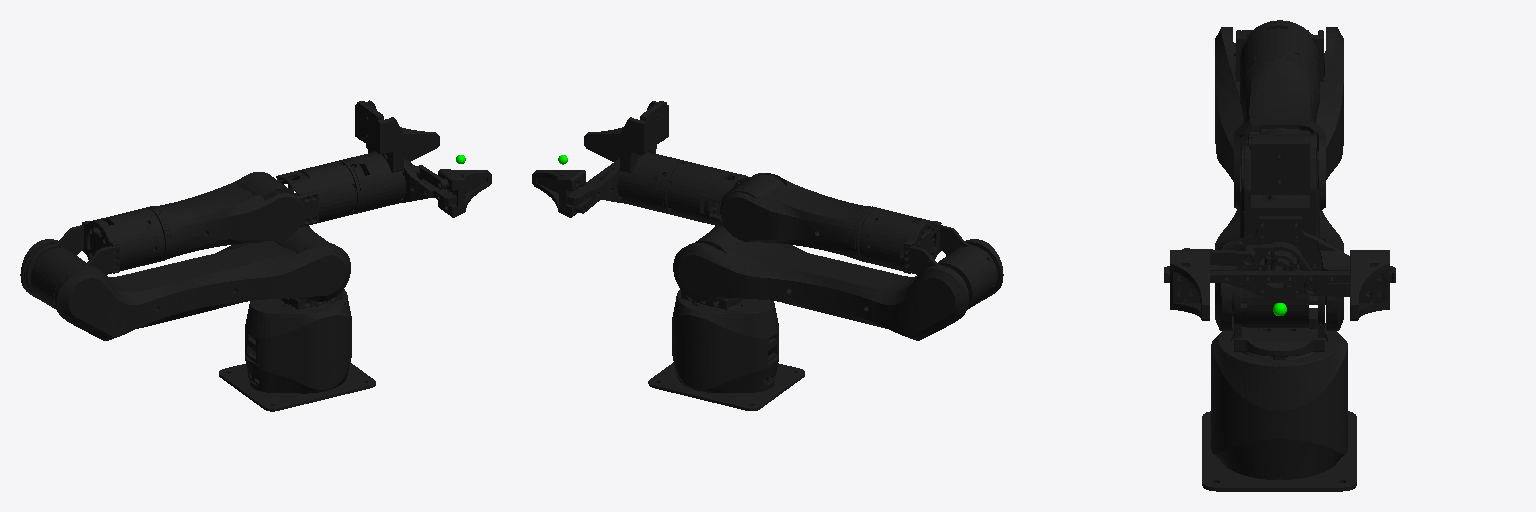
robot.urdf — alicia_m_v1_2_follower:
<?xml version="1.0" encoding="utf-8"?>
<!-- This URDF was automatically created by SolidWorks to URDF Exporter! Originally created by Stephen Brawner (brawner@gmail.com)
     Commit Version: 1.6.0-4-g7f85cfe  Build Version: 1.6.7995.38578
     For more information, please see http://wiki.ros.org/sw_urdf_exporter -->
<robot
  name="alicia_m_v1_2_follower">
  <mujoco>
    <compiler meshdir="../../meshes/Alicia_M_v1_2/follower" discardvisual="false" />
  </mujoco>
  <link
    name="base_link">
    <inertial>
      <origin
        xyz="-0.0103334311485526 -0.00398385453945082 0.0143582891490441"
        rpy="0 0 0" />
      <mass
        value="1.2877" />
      <inertia
        ixx="0.00234861116473635"
        ixy="-9.65297457777555E-08"
        ixz="4.24432699737844E-05"
        iyy="0.00240394161469715"
        iyz="4.00703606824947E-08"
        izz="0.00318615555166408" />
    </inertial>
    <visual>
      <origin
        xyz="0 0 0"
        rpy="0 0 0" />
      <geometry>
        <mesh
          filename="package://alicia_m_descriptions/meshes/Alicia_M_v1_2/follower/base_link.STL" />
      </geometry>
      <material
        name="">
        <color
          rgba="0.15 0.15 0.15 1" />
      </material>
    </visual>
    <collision>
      <origin
        xyz="0 0 0"
        rpy="0 0 0" />
      <geometry>
        <mesh
          filename="package://alicia_m_descriptions/meshes/Alicia_M_v1_2/follower/base_link.STL" />
      </geometry>
    </collision>
  </link>
  <link
    name="link1">
    <inertial>
      <origin
        xyz="-0.00128221166671431 -0.000784868444913489 0.0320390880049268"
        rpy="0 0 0" />
      <mass
        value="0.5406" />
      <inertia
        ixx="0.000106554926497957"
        ixy="-2.30140022681205E-07"
        ixz="-7.39121862553689E-08"
        iyy="8.50049672355468E-05"
        iyz="1.78364303375665E-07"
        izz="9.72433156881315E-05" />
    </inertial>
    <visual>
      <origin
        xyz="0 0 0"
        rpy="0 0 0" />
      <geometry>
        <mesh
          filename="package://alicia_m_descriptions/meshes/Alicia_M_v1_2/follower/Link1.STL" />
      </geometry>
      <material
        name="">
        <color
          rgba="0.15 0.15 0.15 1" />
      </material>
    </visual>
    <collision>
      <origin
        xyz="0 0 0"
        rpy="0 0 0" />
      <geometry>
        <mesh
          filename="package://alicia_m_descriptions/meshes/Alicia_M_v1_2/follower/Link1.STL" />
      </geometry>
    </collision>
  </link>
  <joint
    name="joint1"
    type="revolute">
    <origin
      xyz="0 -0.0039812 0.09125"
      rpy="0 0 1.5708" />
    <parent
      link="base_link" />
    <child
      link="link1" />
    <axis
      xyz="0 0 1" />
    <limit
      lower="-2.7475"
      upper="2.7475"
      effort="5"
      velocity="10" />
  </joint>
  <link
    name="link2">
    <inertial>
      <origin
        xyz="-0.149110206131976 0.00587855056496403 0.00511128026103987"
        rpy="0 0 0" />
      <mass
        value="0.7456" />
      <inertia
        ixx="0.000390594992994462"
        ixy="-0.000174513517791999"
        ixz="-1.08397040021435E-06"
        iyy="0.00252153883989753"
        iyz="2.76601011372572E-07"
        izz="0.00247149215867246" />
    </inertial>
    <visual>
      <origin
        xyz="0 0 0"
        rpy="0 0 0" />
      <geometry>
        <mesh
          filename="package://alicia_m_descriptions/meshes/Alicia_M_v1_2/follower/Link2.STL" />
      </geometry>
      <material
        name="">
        <color
          rgba="0.15 0.15 0.15 1" />
      </material>
    </visual>
    <collision>
      <origin
        xyz="0 0 0"
        rpy="0 0 0" />
      <geometry>
        <mesh
          filename="package://alicia_m_descriptions/meshes/Alicia_M_v1_2/follower/Link2.STL" />
      </geometry>
    </collision>
  </link>
  <joint
    name="joint2"
    type="revolute">
    <origin
      xyz="0.0039812 0 0.0425"
      rpy="1.5708 0 -1.5708" />
    <parent
      link="link1" />
    <child
      link="link2" />
    <axis
      xyz="0 0 1" />
    <limit
      lower="-3.14"
      upper="0"
      effort="5"
      velocity="10" />
  </joint>
  <link
    name="link3">
    <inertial>
      <origin
        xyz="0.0471352717326471 0.0202037498946963 0.00423214628577229"
        rpy="0 0 0" />
      <mass
        value="0.4848" />
      <inertia
        ixx="0.0002147828565748"
        ixy="9.61503533058426E-06"
        ixz="-7.38783597929946E-08"
        iyy="0.000170815770161173"
        iyz="-5.15998814935893E-08"
        izz="0.000191605361638939" />
    </inertial>
    <visual>
      <origin
        xyz="0 0 0"
        rpy="0 0 0" />
      <geometry>
        <mesh
          filename="package://alicia_m_descriptions/meshes/Alicia_M_v1_2/follower/Link3.STL" />
      </geometry>
      <material
        name="">
        <color
          rgba="0.15 0.15 0.15 1" />
      </material>
    </visual>
    <collision>
      <origin
        xyz="0 0 0"
        rpy="0 0 0" />
      <geometry>
        <mesh
          filename="package://alicia_m_descriptions/meshes/Alicia_M_v1_2/follower/Link3.STL" />
      </geometry>
    </collision>
  </link>
  <joint
    name="joint3"
    type="revolute">
    <origin
      xyz="-0.28184 0.040424 0"
      rpy="0 0 0" />
    <parent
      link="link2" />
    <child
      link="link3" />
    <axis
      xyz="0 0 -1" />
    <limit
      lower="-3.14"
      upper="0"
      effort="5"
      velocity="10" />
  </joint>
  <link
    name="link4">
    <inertial>
      <origin
        xyz="-5.27169367604829E-05 0.000828604472237988 0.101643736358595"
        rpy="0 0 0" />
      <mass
        value="0.5496" />
      <inertia
        ixx="0.00028255308883228"
        ixy="-1.33853178351593E-07"
        ixz="2.70285319075968E-07"
        iyy="0.000326578235252475"
        iyz="4.29699957506392E-07"
        izz="0.000156850634511828" />
    </inertial>
    <visual>
      <origin
        xyz="0 0 0"
        rpy="0 0 0" />
      <geometry>
        <mesh
          filename="package://alicia_m_descriptions/meshes/Alicia_M_v1_2/follower/Link4.STL" />
      </geometry>
      <material
        name="">
        <color
          rgba="0.15 0.15 0.15 1" />
      </material>
    </visual>
    <collision>
      <origin
        xyz="0 0 0"
        rpy="0 0 0" />
      <geometry>
        <mesh
          filename="package://alicia_m_descriptions/meshes/Alicia_M_v1_2/follower/Link4.STL" />
      </geometry>
    </collision>
  </link>
  <joint
    name="joint4"
    type="revolute">
    <origin
      xyz="0.10092 0.028546 0.0036562"
      rpy="-1.5708 0 -1.5708" />
    <parent
      link="link3" />
    <child
      link="link4" />
    <axis
      xyz="0 0 1" />
    <limit
      lower="-2.79"
      upper="2.79"
      effort="5"
      velocity="10" />
  </joint>
  <link
    name="link5">
    <inertial>
      <origin
        xyz="-0.000158067588989119 0.0618237517311098 0.00493170386673768"
        rpy="0 0 0" />
      <mass
        value="0.40889" />
      <inertia
        ixx="0.000104587906011128"
        ixy="-1.6454205645401E-07"
        ixz="-2.7063034615432E-08"
        iyy="0.000134781703440636"
        iyz="-2.57336134780647E-07"
        izz="0.000109644134958926" />
    </inertial>
    <visual>
      <origin
        xyz="0 0 0"
        rpy="0 0 0" />
      <geometry>
        <mesh
          filename="package://alicia_m_descriptions/meshes/Alicia_M_v1_2/follower/Link5.STL" />
      </geometry>
      <material
        name="">
        <color
          rgba="0.15 0.15 0.15 1" />
      </material>
    </visual>
    <collision>
      <origin
        xyz="0 0 0"
        rpy="0 0 0" />
      <geometry>
        <mesh
          filename="package://alicia_m_descriptions/meshes/Alicia_M_v1_2/follower/Link5.STL" />
      </geometry>
    </collision>
  </link>
  <joint
    name="joint5"
    type="revolute">
    <origin
      xyz="0 0.0036562 0.1365"
      rpy="1.5708 0 0" />
    <parent
      link="link4" />
    <child
      link="link5" />
    <axis
      xyz="0 0 1" />
    <limit
      lower="-1.57"
      upper="1.57"
      effort="5"
      velocity="10" />
  </joint>
  <link
    name="link6">
    <inertial>
      <origin
        xyz="-0.00948998636754905 0.000191532978881798 0.0380505833920446"
        rpy="0 0 0" />
      <mass
        value="0.4758" /> <!-- no camera: 0.376, camera: 99.8g -->
      <inertia
        ixx="0.000201456867657842"
        ixy="-3.30971599095294E-07"
        ixz="1.95742568443115E-06"
        iyy="0.000124595528900766"
        iyz="1.24978781875172E-07"
        izz="0.000253878310814564" />
    </inertial>
    <visual>
      <origin
        xyz="0 0 0"
        rpy="0 0 0" />
      <geometry>
        <mesh
          filename="package://alicia_m_descriptions/meshes/Alicia_M_v1_2/follower/Link6.STL" />
      </geometry>
      <material
        name="">
        <color
          rgba="0.15 0.15 0.15 1" />
      </material>
    </visual>
    <collision>
      <origin
        xyz="0 0 0"
        rpy="0 0 0" />
      <geometry>
        <mesh
          filename="package://alicia_m_descriptions/meshes/Alicia_M_v1_2/follower/Link6.STL" />
      </geometry>
    </collision>
  </link>
  <joint
    name="joint6"
    type="revolute">
    <origin
      xyz="0 0.091 0.0036563"
      rpy="-1.5708 0 0" />
    <parent
      link="link5" />
    <child
      link="link6" />
    <axis
      xyz="0 0 1" />
    <limit
      lower="-2.791"
      upper="2.791"
      effort="5"
      velocity="10" />
  </joint>
  <link
    name="grasp_base">
    <inertial>
      <origin
        xyz="-0.0852198249110105 -0.00365737918221872 -0.635998735149676"
        rpy="0 0 0" />
      <mass
        value="0.0425" />
      <inertia
        ixx="2.85284349691811E-06"
        ixy="4.98625802715105E-07"
        ixz="-9.10665648582534E-13"
        iyy="1.02173073972286E-06"
        iyz="-4.75683900460703E-12"
        izz="3.62557456427301E-06" />
    </inertial>
    <visual>
      <origin
        xyz="0 0 0"
        rpy="0 0 0" />
      <geometry>
        <mesh
          filename="package://alicia_m_descriptions/meshes/Alicia_M_v1_2/follower/grasp_base.STL" />
      </geometry>
      <material
        name="">
        <color
          rgba="0.15 0.15 0.15 1" />
      </material>
    </visual>
    <collision>
      <origin
        xyz="0 0 0"
        rpy="0 0 0" />
      <geometry>
        <mesh
          filename="package://alicia_m_descriptions/meshes/Alicia_M_v1_2/follower/grasp_base.STL" />
      </geometry>
    </collision>
  </link>
  <joint
    name="grasp_base_joint"
    type="fixed">
    <origin
      xyz="0.0852198249102375 0.00365621749159879 0.705182667183205"
      rpy="0 0 0" />
    <parent
      link="link6" />
    <child
      link="grasp_base" />
    <axis
      xyz="0 0 0" />
  </joint>
  <link
    name="link7">
    <inertial>
      <origin
        xyz="-0.0424955348184516 -1.6632181576437E-08 -0.010712473883987"
        rpy="0 0 0" />
      <mass
        value="0.0260" />
      <inertia
        ixx="5.1089208324363E-06"
        ixy="-2.49929022186501E-11"
        ixz="1.289587574768E-06"
        iyy="6.51611349918903E-06"
        iyz="4.24550714795007E-13"
        izz="8.13762906257037E-06" />
    </inertial>
    <visual>
      <origin
        xyz="0 0 0"
        rpy="0 0 0" />
      <geometry>
        <mesh
          filename="package://alicia_m_descriptions/meshes/Alicia_M_v1_2/follower/Link7.STL" />
      </geometry>
      <material
        name="">
        <color
          rgba="0.15 0.15 0.15 1" />
      </material>
    </visual>
    <collision>
      <origin
        xyz="0 0 0"
        rpy="0 0 0" />
      <geometry>
        <mesh
          filename="package://alicia_m_descriptions/meshes/Alicia_M_v1_2/follower/Link7.STL" />
      </geometry>
    </collision>
  </link>
  <joint
    name="left_finger"
    type="prismatic">
    <origin
      xyz="-0.0852198249102478 -0.0536572471053041 -0.563682569174653"
      rpy="-3.14159264689699 -1.57079450020183 1.57079632010208" />
    <parent
      link="grasp_base" />
    <child
      link="link7" />
    <axis
      xyz="0 0 -1" />
    <limit
      lower="-0.05"
      upper="0"
      effort="5"
      velocity="10" />
  </joint>
  <link
    name="link8">
    <inertial>
      <origin
        xyz="0.0424955348184515 1.66322544070674E-08 -0.0107124738840044"
        rpy="0 0 0" />
      <mass
        value="0.0260" />
      <inertia
        ixx="5.10892083243629E-06"
        ixy="-2.49929022120569E-11"
        ixz="-1.28958757476799E-06"
        iyy="6.51611349918905E-06"
        iyz="-4.24550720177534E-13"
        izz="8.13762906257038E-06" />
    </inertial>
    <visual>
      <origin
        xyz="0 0 0"
        rpy="0 0 0" />
      <geometry>
        <mesh
          filename="package://alicia_m_descriptions/meshes/Alicia_M_v1_2/follower/Link8.STL" />
      </geometry>
      <material
        name="">
        <color
          rgba="0.15 0.15 0.15 1" />
      </material>
    </visual>
    <collision>
      <origin
        xyz="0 0 0"
        rpy="0 0 0" />
      <geometry>
        <mesh
          filename="package://alicia_m_descriptions/meshes/Alicia_M_v1_2/follower/Link8.STL" />
      </geometry>
    </collision>
  </link>
  <joint
    name="right_finger"
    type="prismatic">
    <origin
      xyz="-0.0852198249102447 0.0463427528945291 -0.563682751833062"
      rpy="0 1.57079450020183 -1.57079633348771" />
    <parent
      link="grasp_base" />
    <child
      link="link8" />
    <axis
      xyz="0 0 1" />
    <limit
      lower="0"
      upper="0.05"
      effort="5"
      velocity="10" />
    <mimic joint="left_finger" multiplier="-1.0" offset="0" />
  </joint>
  <link
    name="tool0">
    <visual>
      <origin
        xyz="0 0 0"
        rpy="0 0 0" />
      <geometry>
        <sphere radius="0.005" />
      </geometry>
      <material
        name="green_virtual_sphere_material">
        <color
          rgba="0 1 0 1" />
      </material>
    </visual>
  </link>
  <joint
    name="tool0_fixed_joint"
    type="fixed">
    <origin
      xyz="0 0 0.1375"
      rpy="0 0 0" />
    <parent
      link="link6" />
    <child
      link="tool0" />
    <axis
      xyz="0 0 0" />
  </joint>

  <!-- <link
    name="marker">
    <visual>
      <origin
        xyz="0 0 0"
        rpy="0 0 0" />
      <geometry>
        <sphere radius="0.005" />
      </geometry>
      <material
        name="green_virtual_sphere_material">
        <color
          rgba="0 1 0 1" />
      </material>
    </visual>
  </link>
  <joint
    name="marker_fixed_joint"
    type="fixed">
    <origin
      xyz="-0.02365 -0.0005 0.10148"
      rpy="-1.5708 0 1.5708" />
    <parent
      link="link6" />
    <child
      link="marker" />
    <axis
      xyz="0 0 0" />
  </joint> -->
</robot>

--- What the picture shows (computed from the rendered views, not written in the file) ---
Views: 3 orthographic renders of the robot side by side, from view 1: azimuth 30°, elevation 25°; view 2: azimuth 150°, elevation 25°; view 3: azimuth 270°, elevation 25°.
Robot: alicia_m_v1_2_follower — 11 links, 10 joints (6 revolute, 2 prismatic, 2 fixed); root link base_link; default pose: all joints at 0.
Visible links, largest first — view 1: link2, base_link, link4, link3, link6, link5, link7, link1, link8; view 2: link2, base_link, link4, link3, link6, link5, link8, link1, link7; view 3: base_link, link6, link2, link4, link1, link3, link7, link8, grasp_base.
Link boxes in pixels (<box>): link2: <box>20,225,350,340</box>; base_link: <box>219,289,375,411</box>; link4: <box>146,172,302,261</box>; link3: <box>26,208,164,309</box>; link6: <box>339,100,456,214</box>; link5: <box>276,161,356,226</box>; link7: <box>438,169,491,217</box>; link1: <box>274,226,342,309</box>; link8: <box>400,127,439,161</box>; link2: <box>673,225,1003,340</box>; base_link: <box>648,289,804,410</box>; link4: <box>720,173,876,261</box>; link3: <box>859,208,997,309</box>; link6: <box>567,101,683,214</box>; link5: <box>667,161,749,227</box>; link8: <box>532,170,585,217</box>; link1: <box>681,226,748,309</box>; link7: <box>584,127,623,161</box>; base_link: <box>1202,323,1356,491</box>; link6: <box>1164,140,1395,300</box>; link2: <box>1215,27,1343,330</box>; link4: <box>1234,58,1325,210</box>; link1: <box>1232,287,1324,359</box>; link3: <box>1233,20,1323,88</box>; link7: <box>1170,250,1209,320</box>; link8: <box>1350,250,1389,320</box>; grasp_base: <box>1182,242,1315,295</box>.
Bounding box of the posed robot: 0.502 × 0.166 × 0.285 m (x, y, z).
10 mesh visuals loaded from 10 distinct referenced files (10 binary STL).
